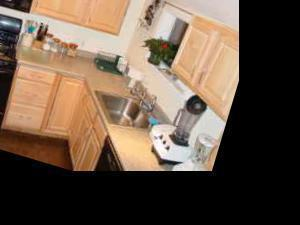Electrodomestico: (0, 8, 28, 135)
Lavaplatos: (85, 77, 170, 145)
